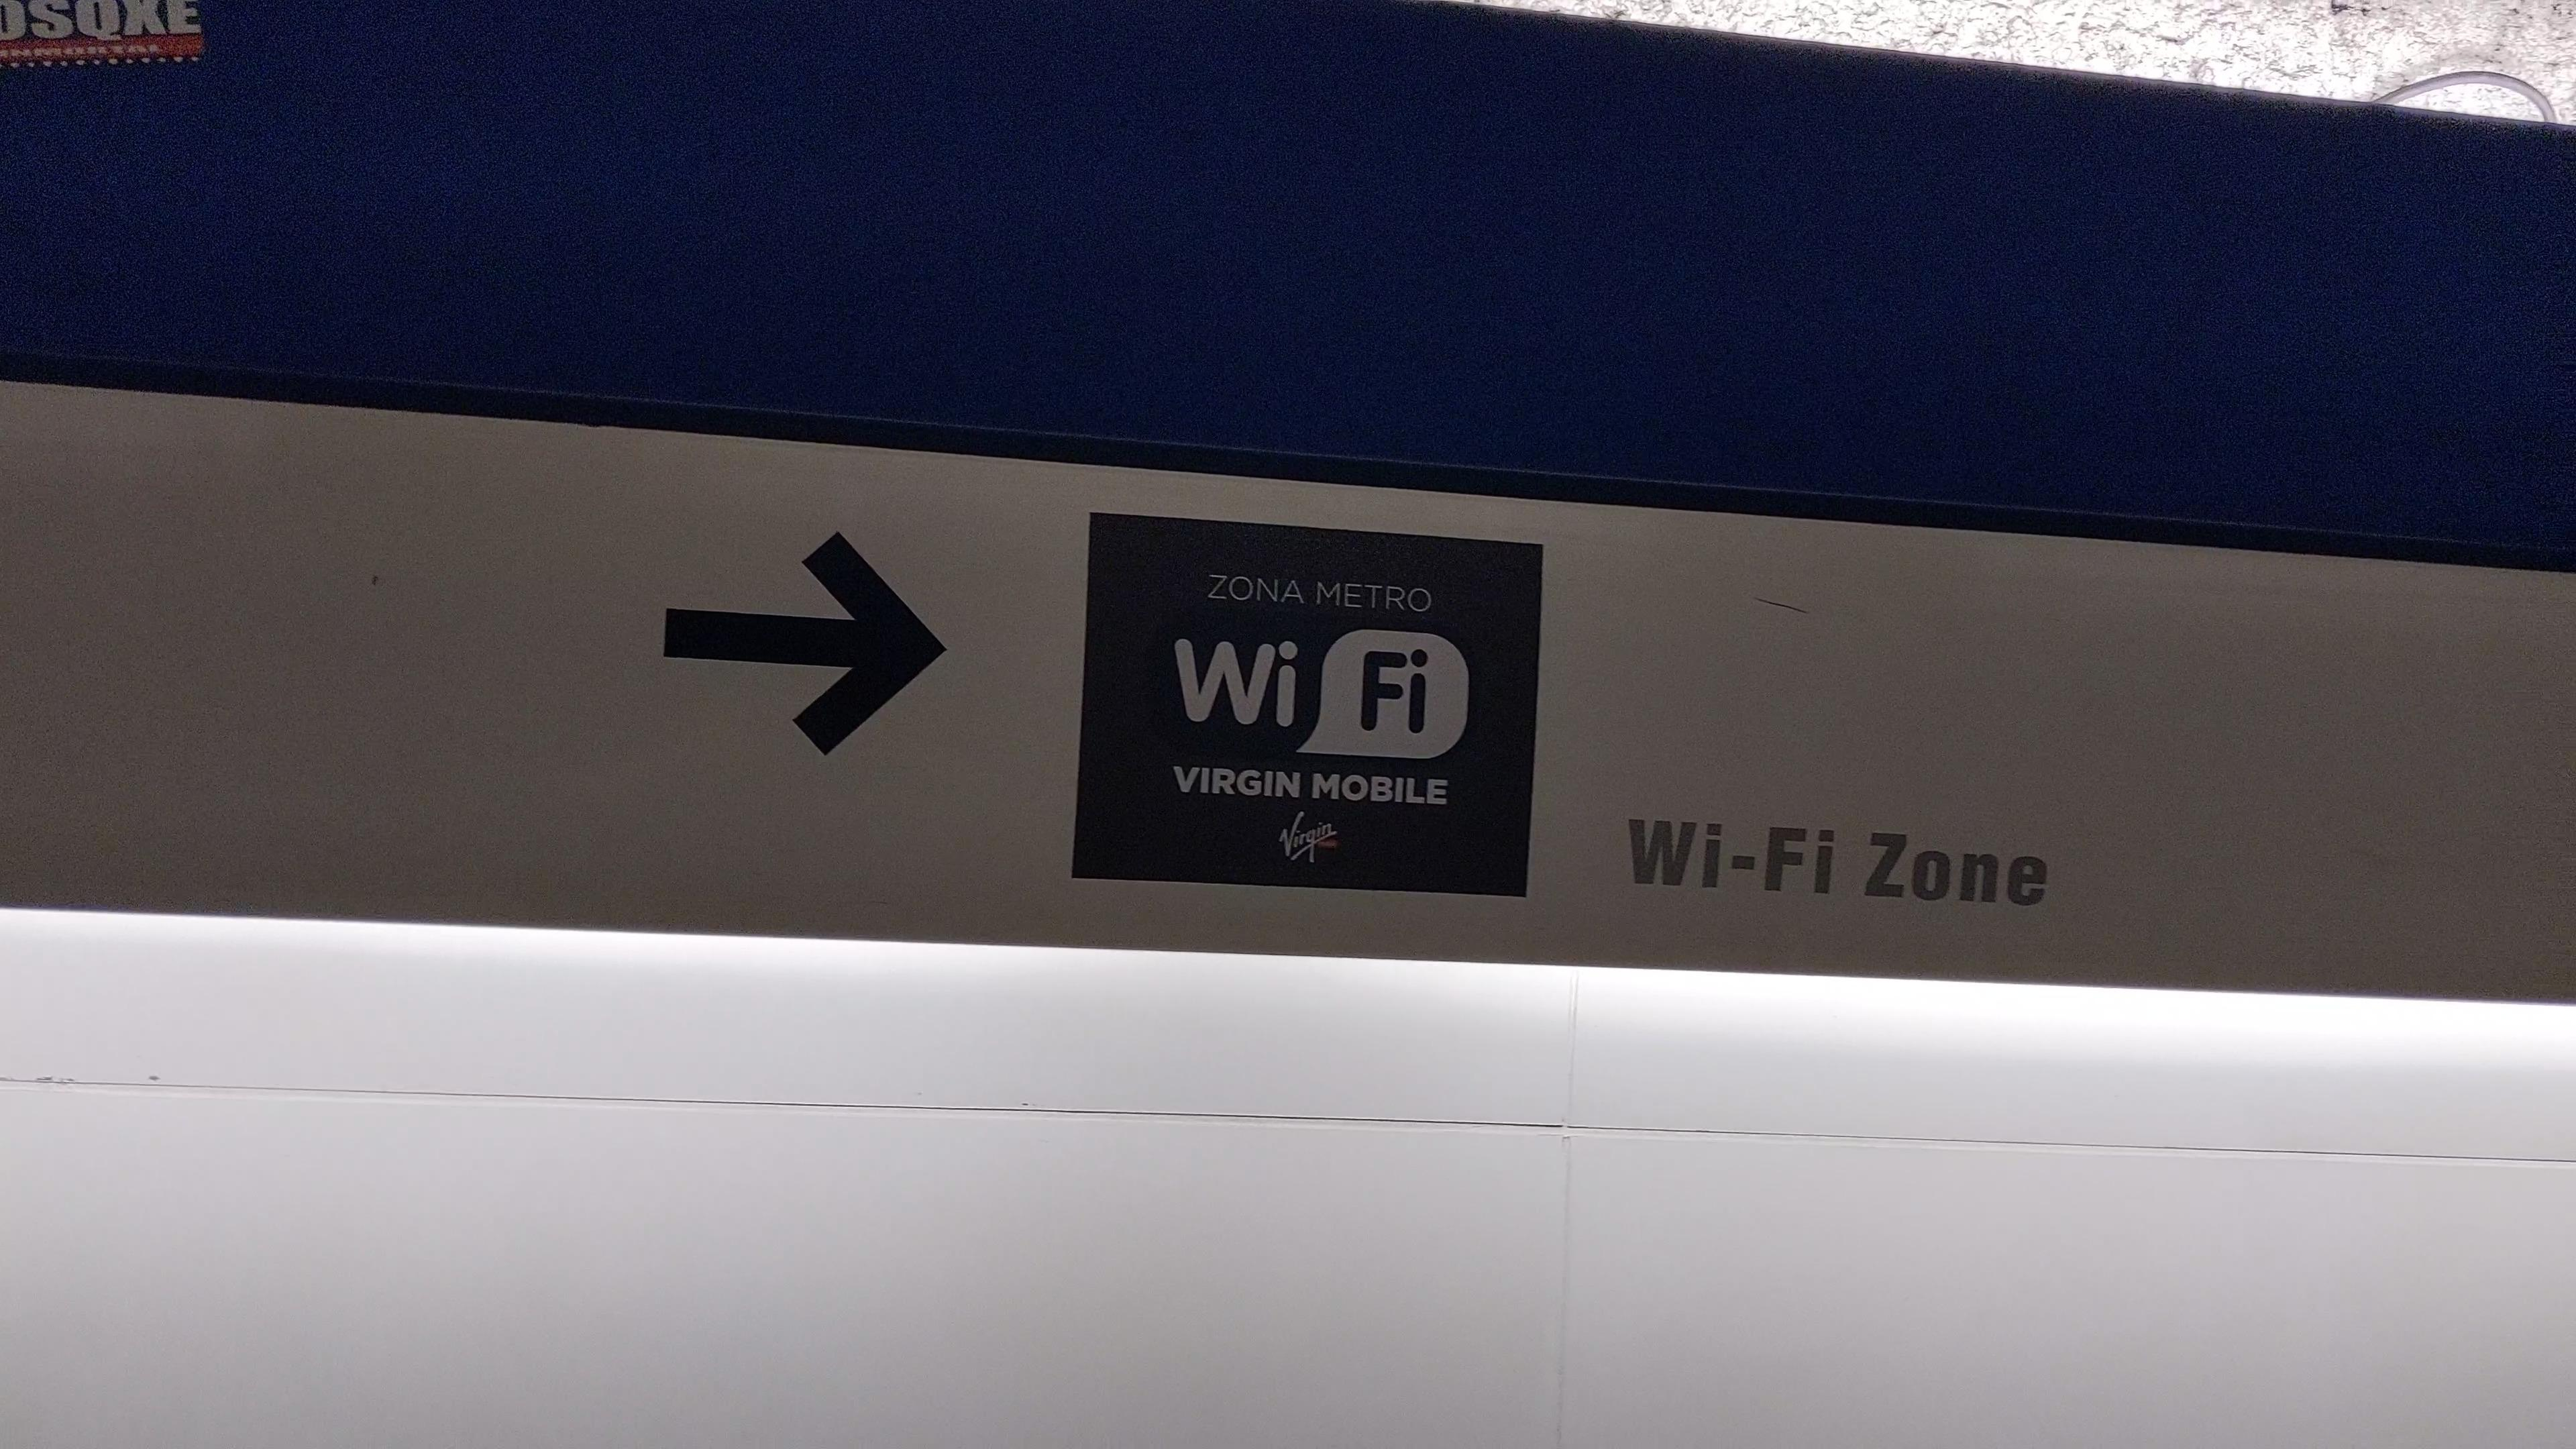right arrow: (649, 520, 957, 764)
